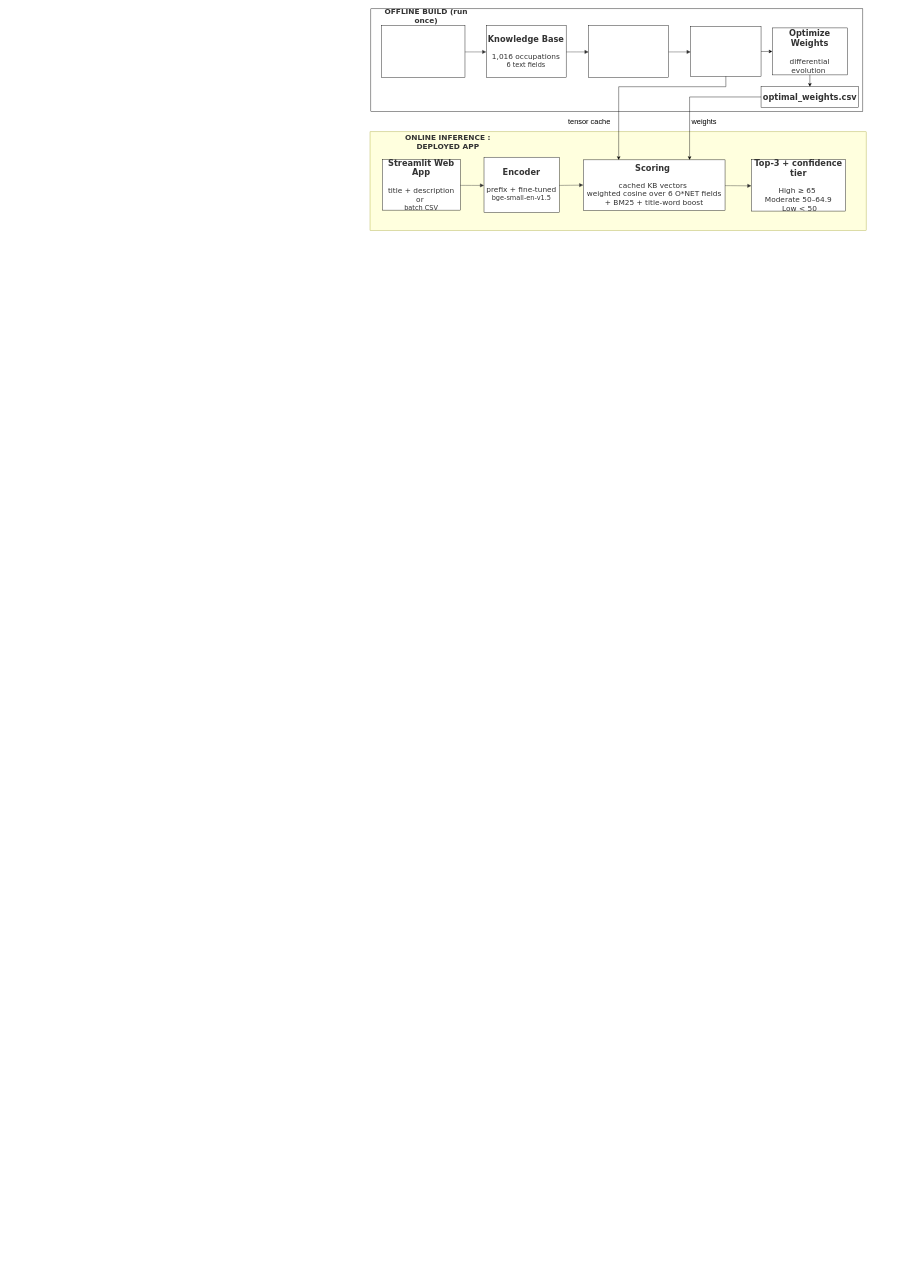
This 923x1284 diagram has some shape labels left out. Here are the shapes that lost their labels. From the top down, the centre of each, then its label:
[423,51]: Raw O*NET Data v30.1 6 source files
[628,51]: Fine-Tune Encoder bge-small-en-v1.5 MNR Loss
[725,51]: Vectorize Knowledge Base 6 field embeddings (tensor cache)
